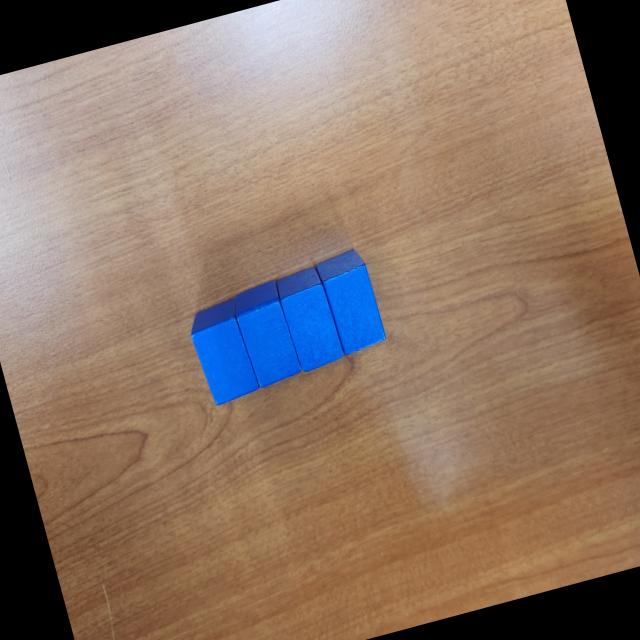blue: (312, 245, 388, 358), (184, 298, 262, 408), (228, 278, 304, 390), (272, 263, 346, 374)
